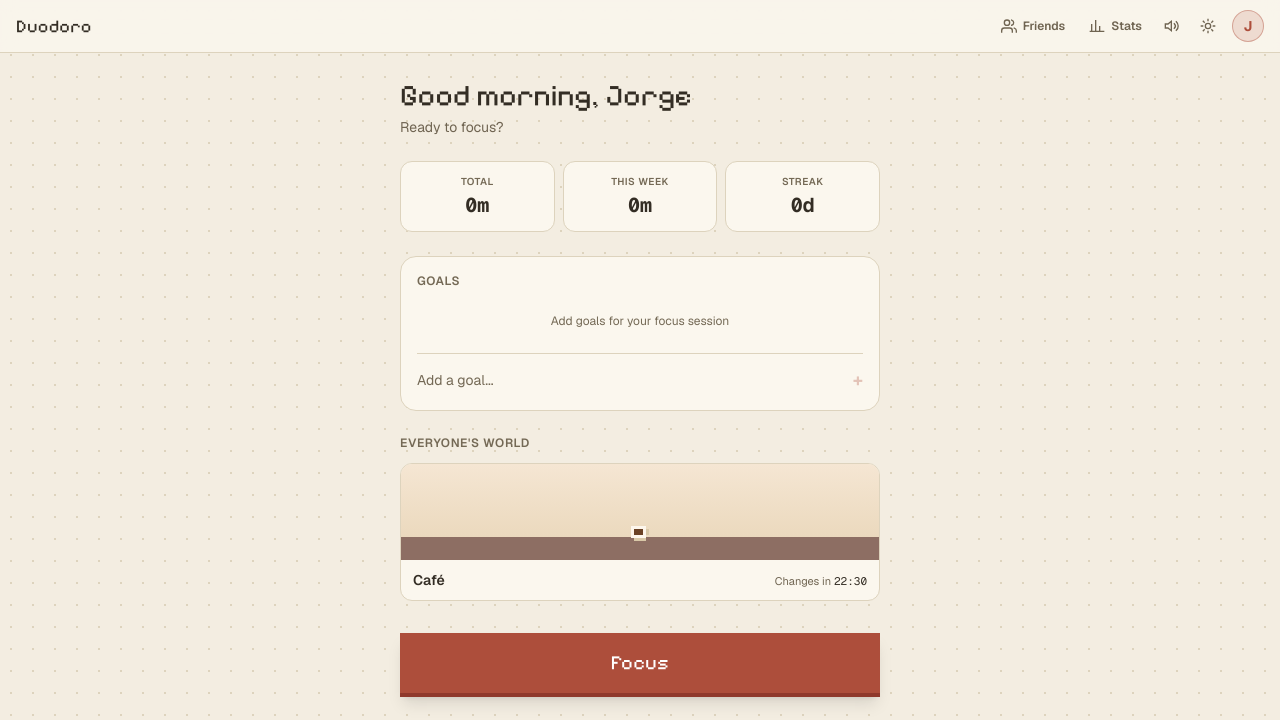
it: HomeDashboard premium entry point › closes the menu on the way
The image size is (1280, 720).
Click the button named "Open account menu" at (1248, 26), box [1232,10,1264,42]
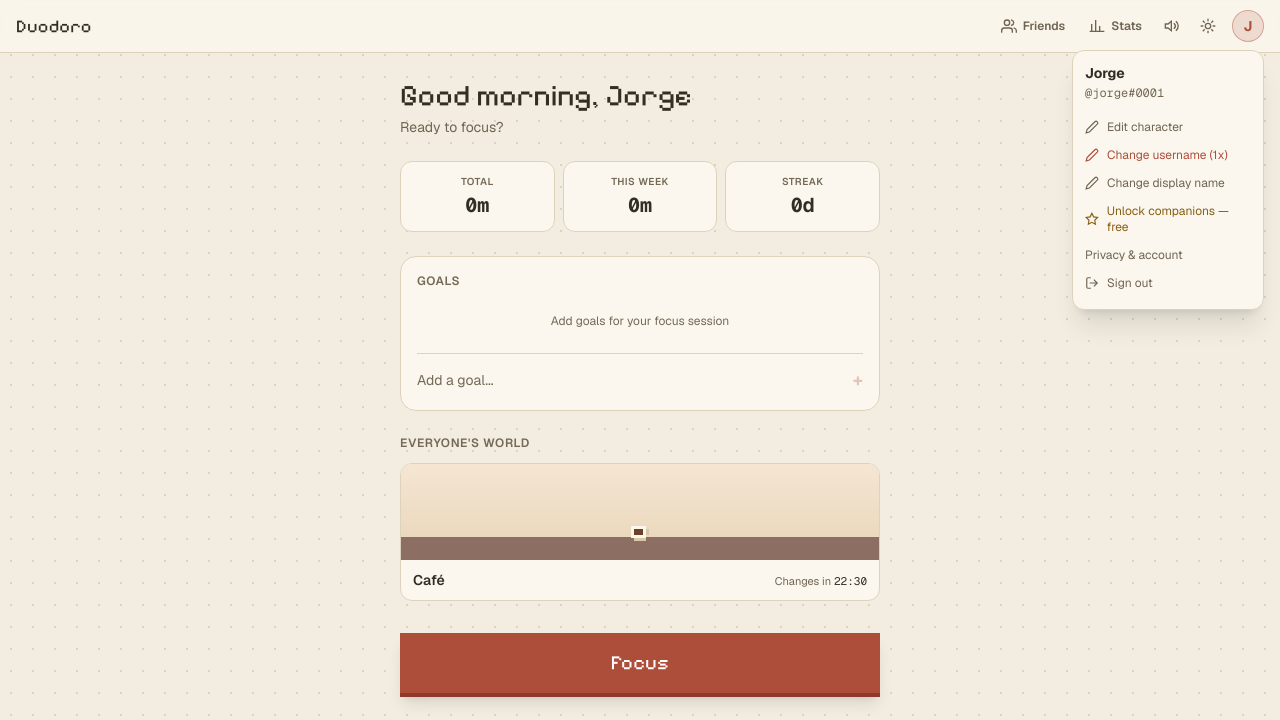
Check: the button "Change display name" is shown, box [1085,169,1251,197]
Click the button "Unlock companions — free" at (1168, 219), box [1085,197,1251,241]
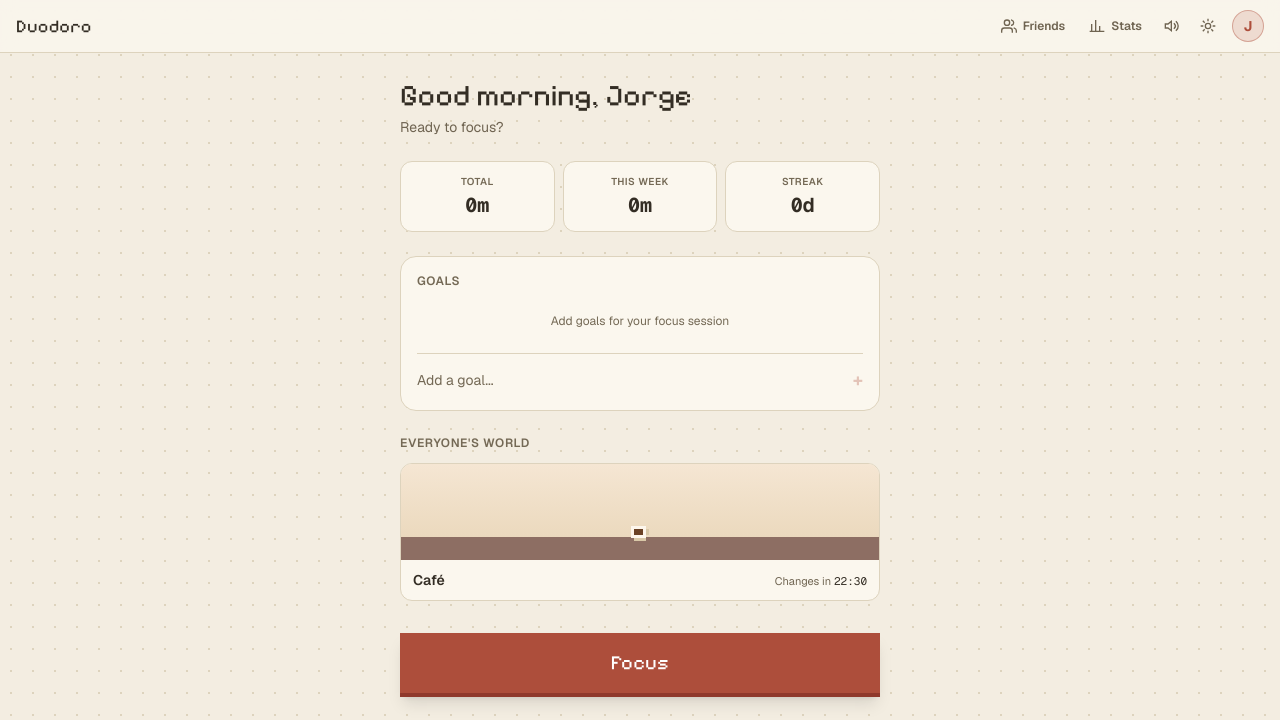
Check: the button "Change display name" is gone
